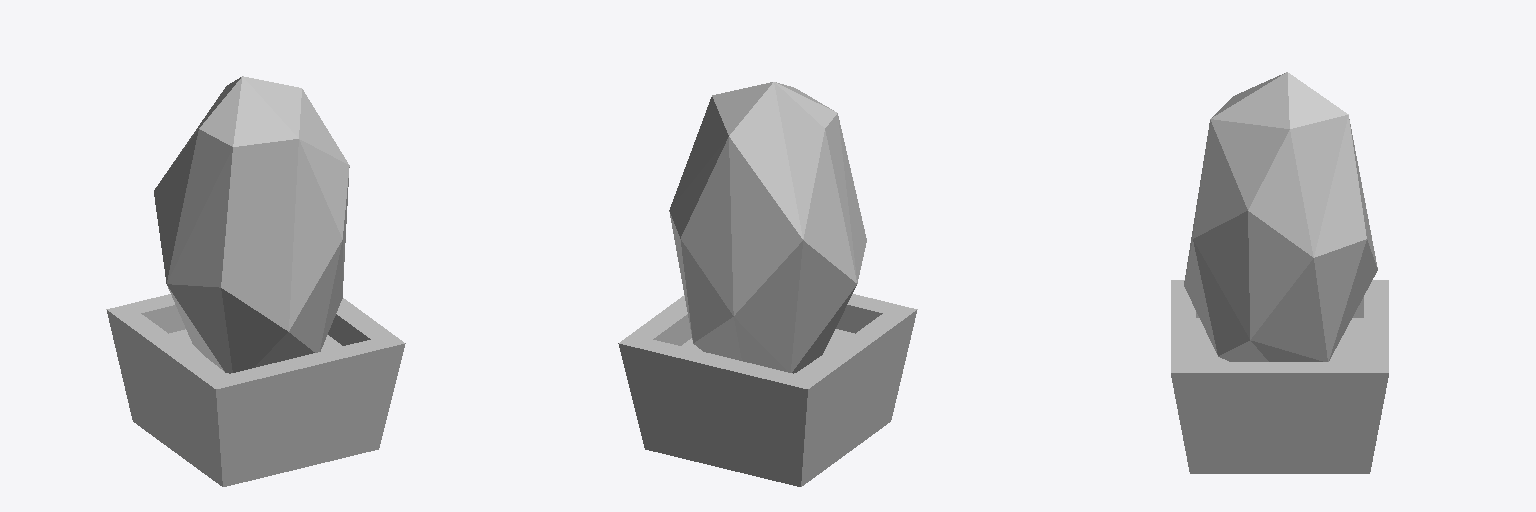
The model's file is Natures_Pot Bush_big.obj.
3 renders of one model, left to right at view 1: azimuth 30°, elevation 25°; view 2: azimuth 150°, elevation 25°; view 3: azimuth 270°, elevation 25°, orthographic.
Parts seen in each view (by area): view 1: Natures_Pot_Bush_big; view 2: Natures_Pot_Bush_big; view 3: Natures_Pot_Bush_big.
Boxes of the visible parts, <box> form: Natures_Pot_Bush_big: <box>106,76,405,486</box>; Natures_Pot_Bush_big: <box>618,82,917,486</box>; Natures_Pot_Bush_big: <box>1171,72,1388,473</box>.
Size of the model in its own units: 28.67 by 51.84 by 28.67.